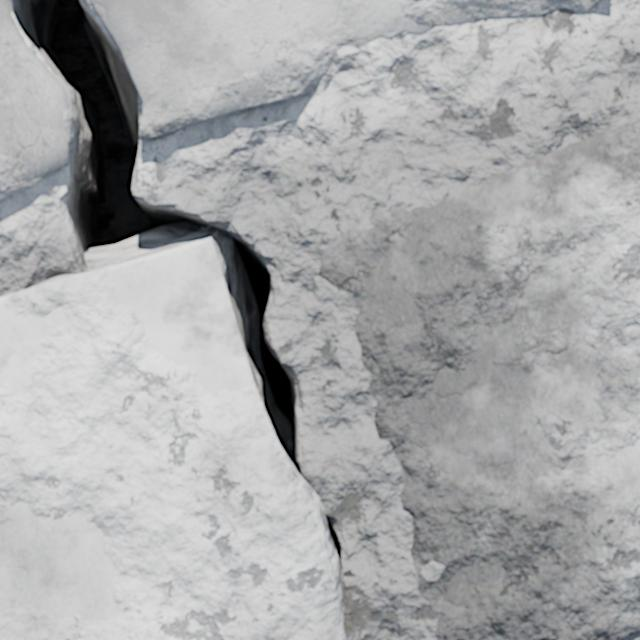broken_brick: (94, 0, 600, 139), (0, 0, 71, 202)
crack: (0, 0, 348, 639), (319, 120, 639, 639), (219, 89, 269, 104), (174, 113, 187, 117)
